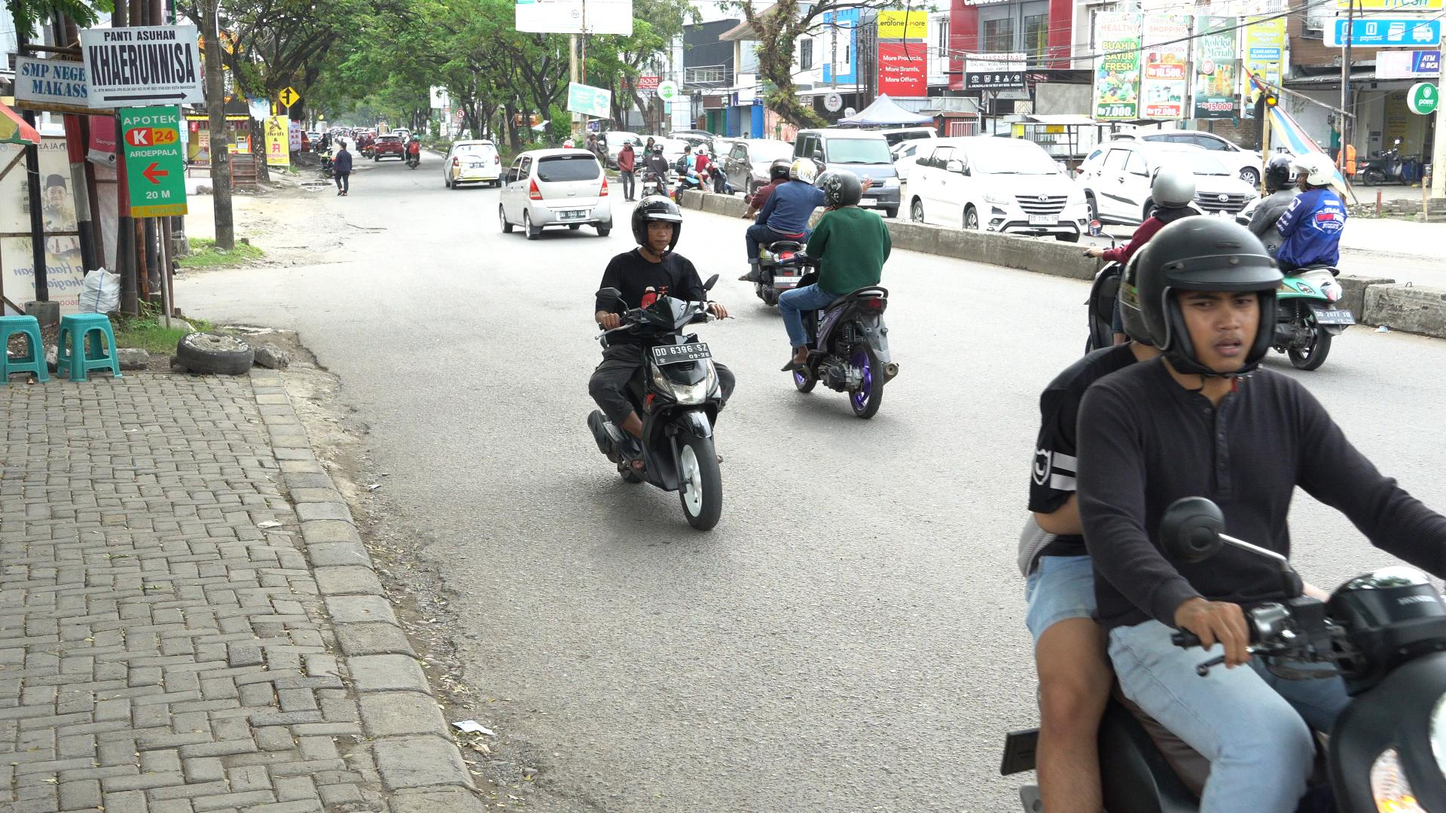number-plate: (652, 341, 714, 365)
